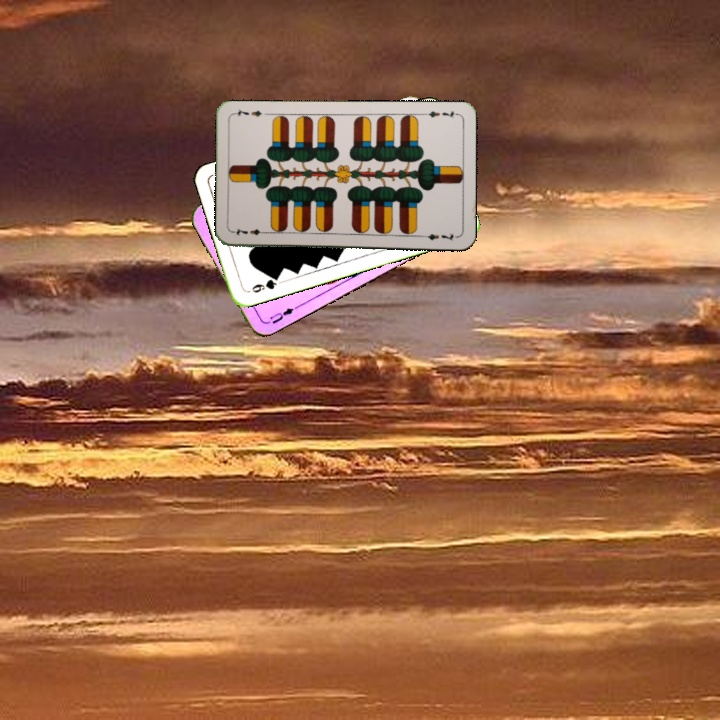E7: (230, 225, 271, 238), (419, 107, 460, 120)
EU: (261, 303, 300, 327)
G9: (247, 272, 282, 295)
